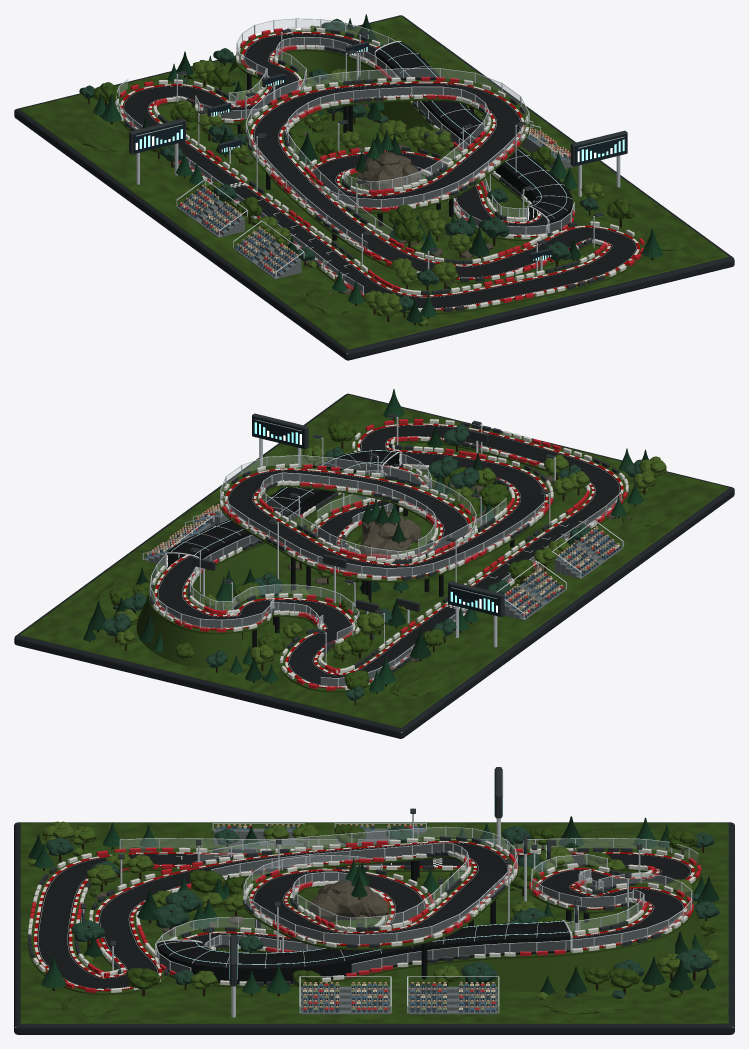
File: Alpine_Circuit_Diorama.glb
3 renders of one model, top to bottom at view 1: azimuth 30°, elevation 25°; view 2: azimuth 150°, elevation 25°; view 3: azimuth 270°, elevation 25°, orthographic. The views are drawn at different scales.
Parts seen in each view (by area): view 1: Inset landscape tray, Continuous drivable asphalt deck, Black rectangular display plinth, Trimmed grass verge -1, Alternating red white raised kerb -1, Alternating red white raised kerb 1, Trimmed grass verge 1, Upper sector sculpted grass embankment -1, Tunnel wall cap, Low meadow hill 00, Low meadow hill 05, Jumbotron 2 display face (+4 smaller); view 2: Inset landscape tray, Continuous drivable asphalt deck, Black rectangular display plinth, Alternating red white raised kerb -1, Trimmed grass verge -1, Alternating red white raised kerb 1, Trimmed grass verge 1, Upper sector sculpted grass embankment 1, Upper sector sculpted grass embankment -1, Low meadow hill 00, Tunnel wall cap, Jumbotron 1 display face.001 (+5 smaller); view 3: Inset landscape tray, Continuous drivable asphalt deck, Black rectangular display plinth, Upper sector sculpted grass embankment 1, Tunnel wall cap.001, Trimmed grass verge 1, Alternating red white raised kerb -1, Trimmed grass verge -1, Alternating red white raised kerb 1, Low meadow hill 01, Low meadow hill 00, Low meadow hill 04 (+19 smaller).
Boxes of the visible parts, x1,y1,x2,y2 form: Inset landscape tray: (20,16,728,349); Continuous drivable asphalt deck: (123,33,637,308); Black rectangular display plinth: (14,15,734,360); Trimmed grass verge -1: (151,47,606,295); Alternating red white raised kerb -1: (149,45,610,296); Alternating red white raised kerb 1: (120,32,639,310); Trimmed grass verge 1: (118,30,644,314); Upper sector sculpted grass embankment -1: (279,51,440,154); Tunnel wall cap: (376,52,537,220); Low meadow hill 00: (71,121,128,155); Low meadow hill 05: (301,289,353,314); Jumbotron 2 display face: (575,134,626,165); Inset landscape tray: (20,394,728,727); Continuous drivable asphalt deck: (157,425,620,686); Black rectangular display plinth: (14,393,734,738); Alternating red white raised kerb -1: (183,436,594,674); Trimmed grass verge -1: (186,439,591,673); Alternating red white raised kerb 1: (154,423,623,688); Trimmed grass verge 1: (149,422,628,692); Upper sector sculpted grass embankment 1: (136,593,245,668); Upper sector sculpted grass embankment -1: (191,543,286,630); Low meadow hill 00: (389,665,450,698); Tunnel wall cap: (199,466,380,561); Jumbotron 1 display face.001: (448,584,500,616); Inset landscape tray: (20,822,728,1023); Continuous drivable asphalt deck: (37,842,691,991); Black rectangular display plinth: (14,822,734,1034); Upper sector sculpted grass embankment 1: (398,907,709,991); Tunnel wall cap.001: (157,936,570,984); Trimmed grass verge 1: (27,851,701,995); Alternating red white raised kerb -1: (69,841,659,977); Trimmed grass verge -1: (72,840,656,975); Alternating red white raised kerb 1: (34,852,694,991); Low meadow hill 01: (541,995,627,1014); Low meadow hill 00: (579,827,662,848); Low meadow hill 04: (61,995,116,1016).
Bounding box in the file's own units: 4.83 × 1.02 × 7.18.
Materials: 28 (13 with a texture image).
